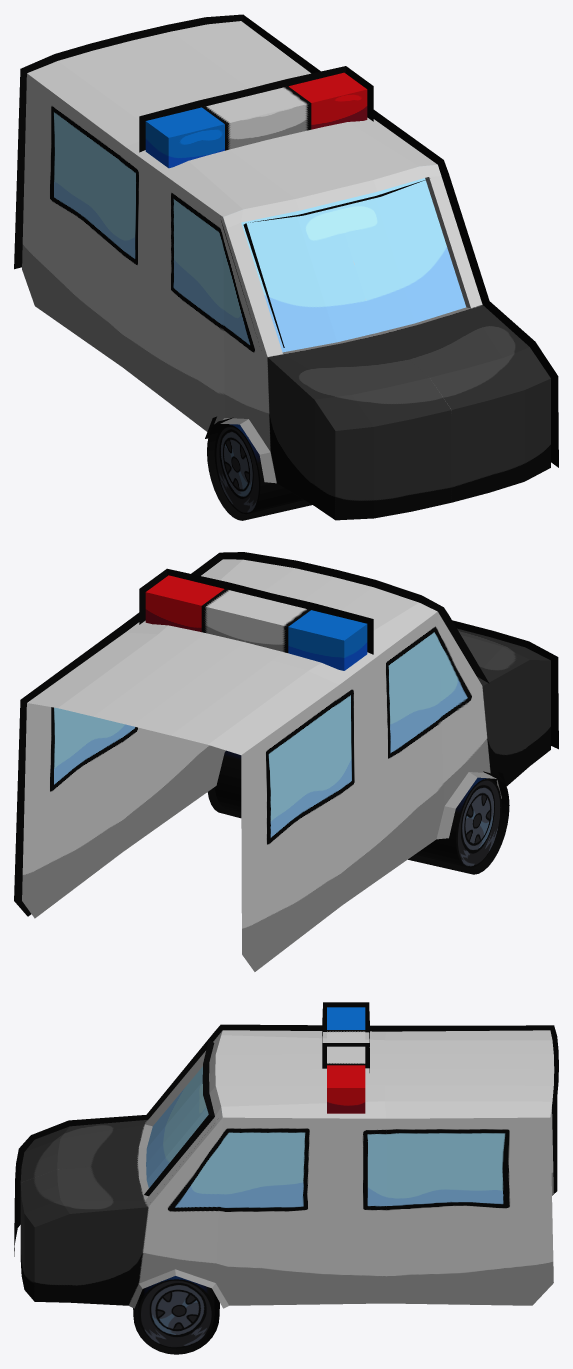
File: PoliceCar.fbx
3 renders of one model, top to bottom at view 1: azimuth 30°, elevation 25°; view 2: azimuth 150°, elevation 25°; view 3: azimuth 270°, elevation 25°, orthographic. The views are drawn at different scales.
Parts seen in each view (by area): view 1: PoliceCar; view 2: PoliceCar; view 3: PoliceCar.
Part boxes in pixels (box(x1,y1,x2,y2)): PoliceCar: box(14, 14, 558, 520); PoliceCar: box(14, 552, 558, 971); PoliceCar: box(14, 1002, 558, 1354).
Size of the model in its own units: 385 by 460 by 868.
1 material, 1 textured.
